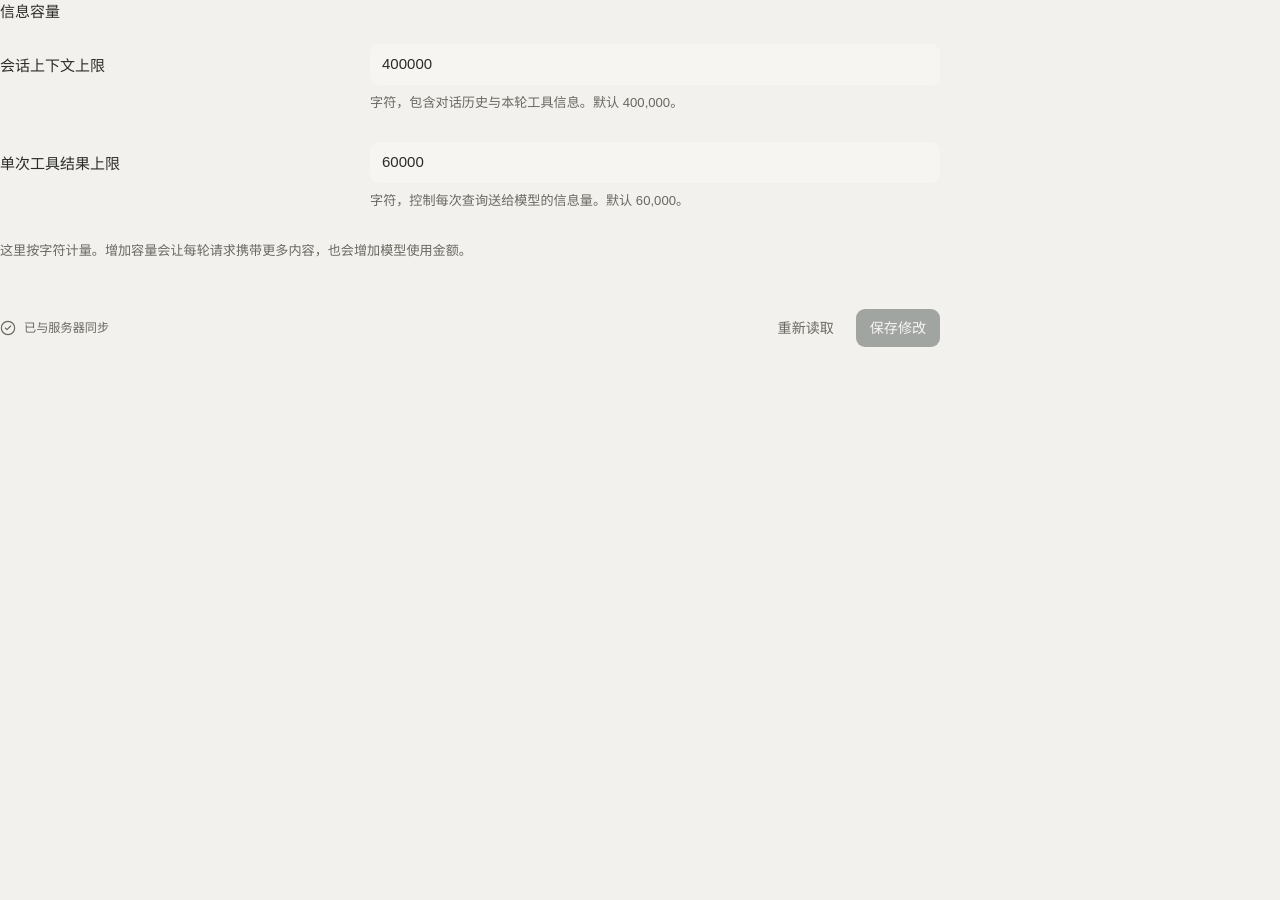
Test: administrator flat runtime configuration › preserves a conflicting context draft, guards category changes and requires explicit reload
The width and height of the screenshot is (1280, 900).
Replace the text in the number field labelled "会话上下文上限" with "80000" at (655, 64), box x1=370 y1=44 x2=940 y2=84
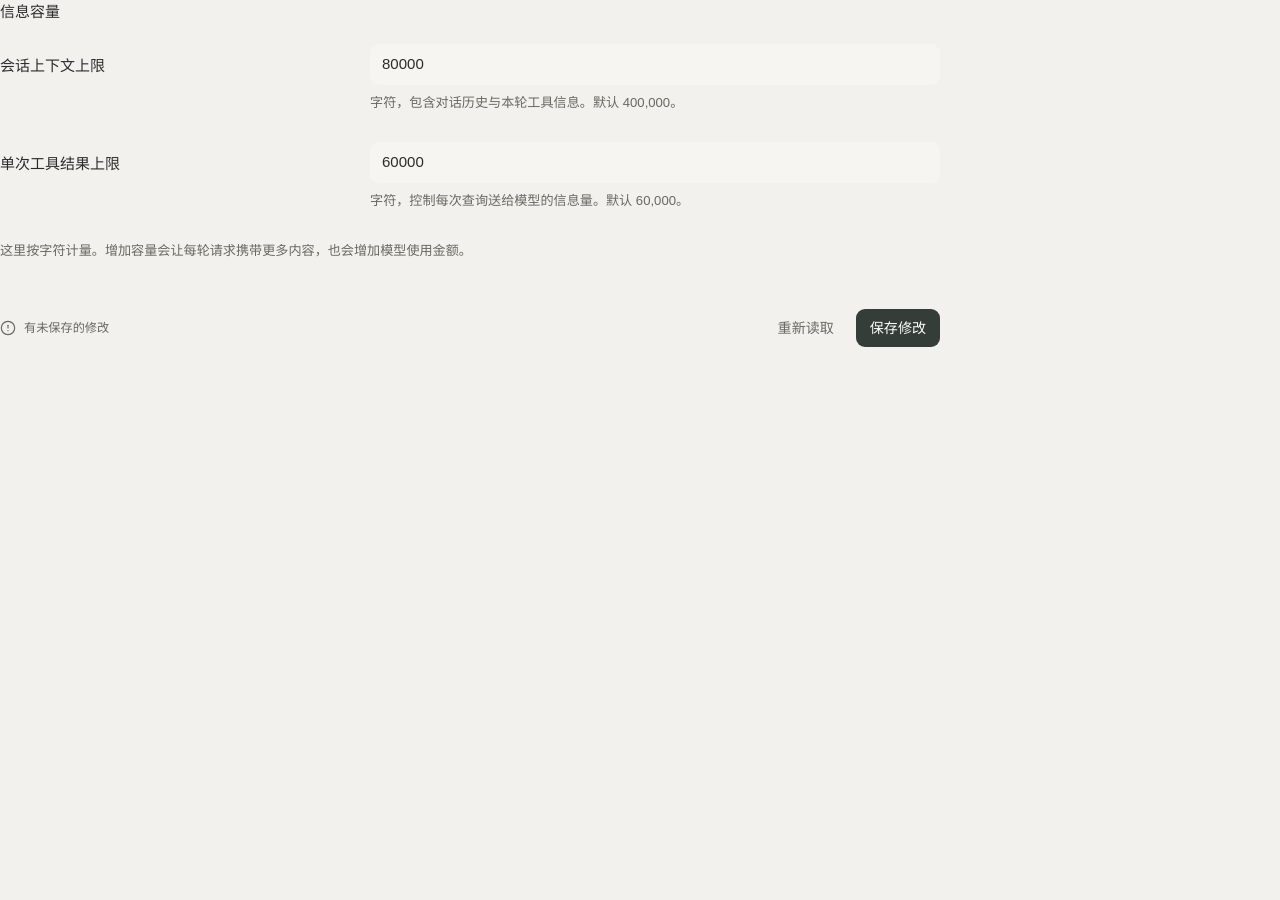
Click the button "保存修改" at (898, 328), box x1=856 y1=309 x2=940 y2=347
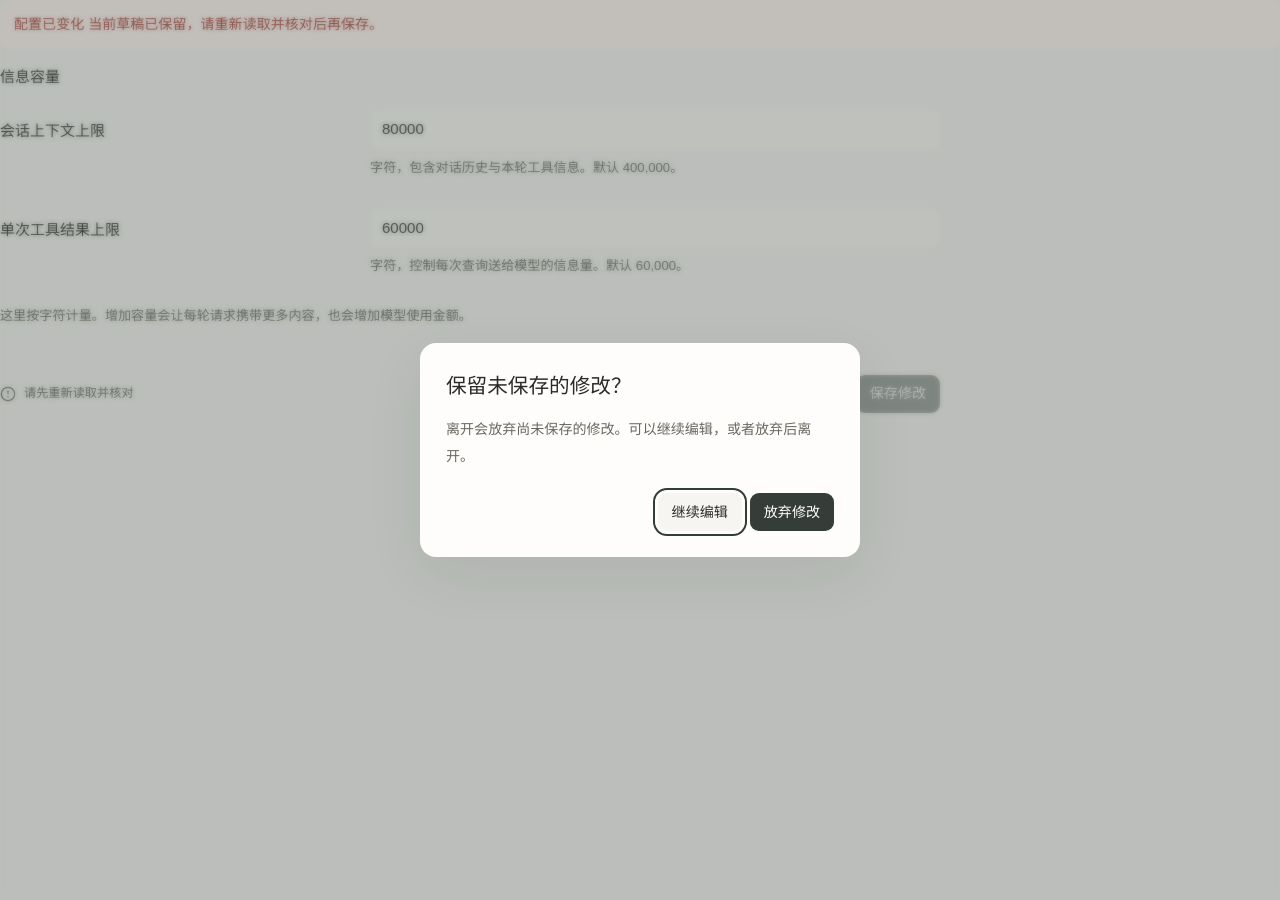
Result: the message shows "当前草稿已保留" at x1=14 y1=16 x2=383 y2=32
Result: the button "保存修改" is disabled at x1=856 y1=374 x2=940 y2=412
Click the button "继续编辑" at (700, 512), box x1=658 y1=493 x2=742 y2=531
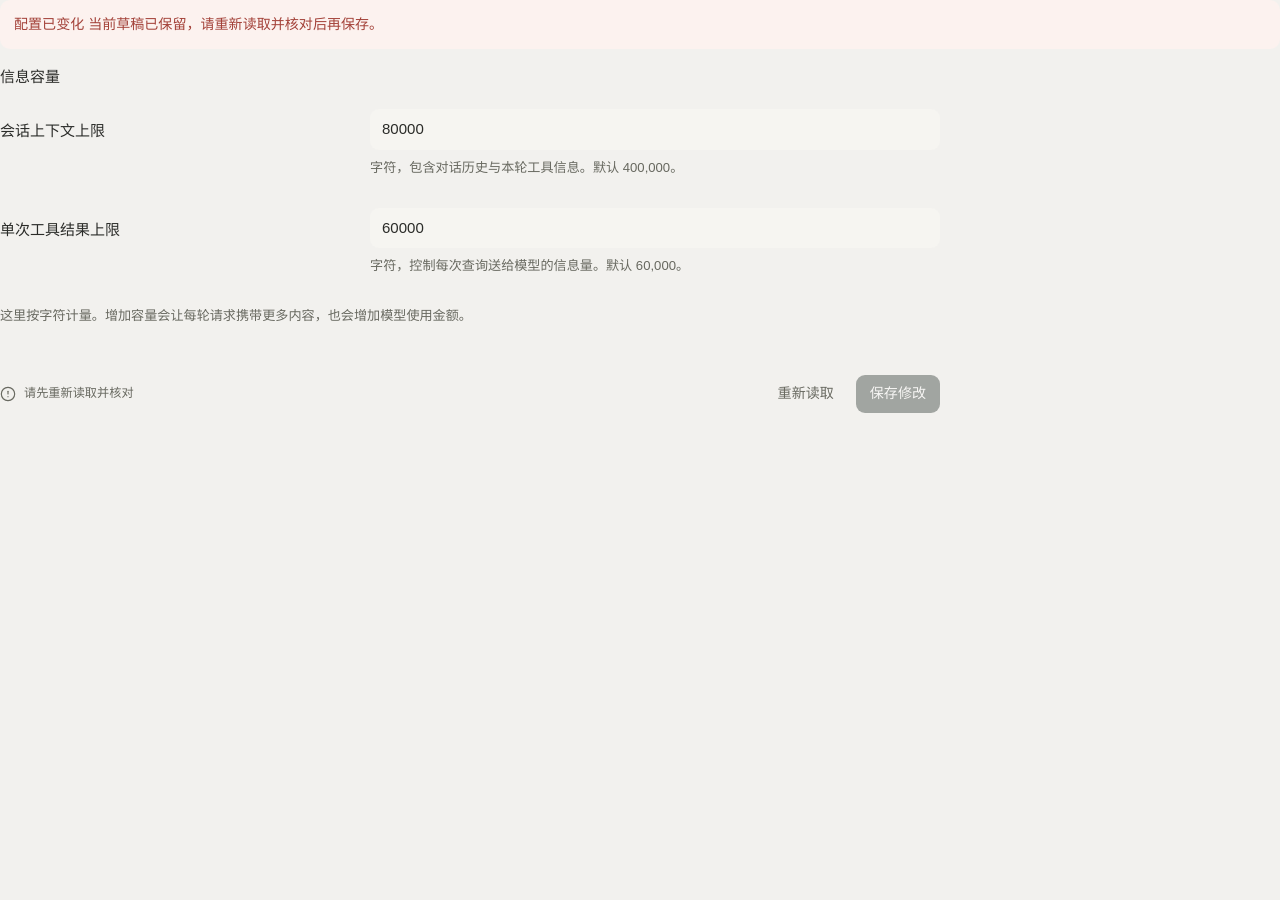
Click the button "重新读取" at (806, 394), box x1=764 y1=374 x2=848 y2=412
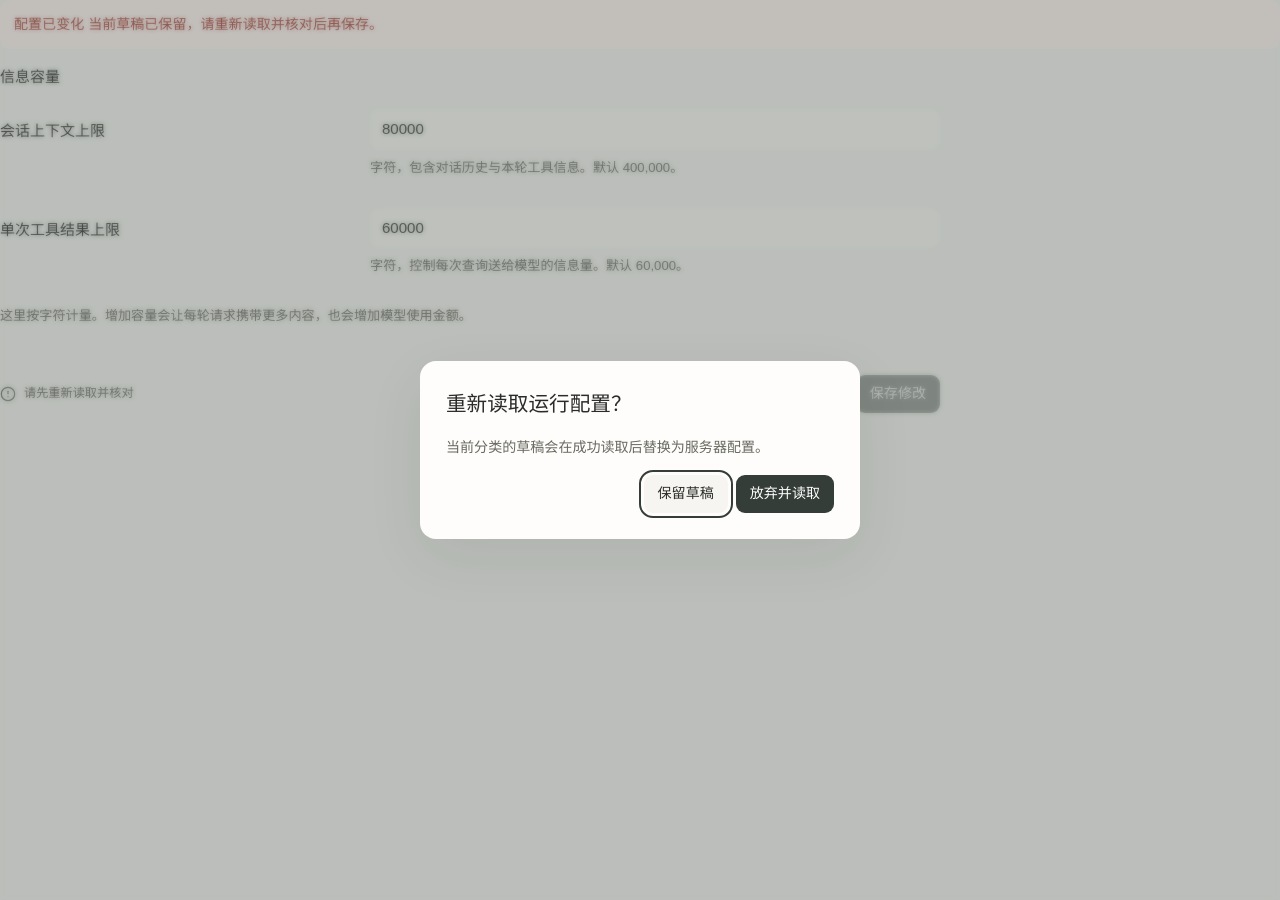
Click the button "放弃并读取" at (785, 494), box x1=736 y1=474 x2=834 y2=512
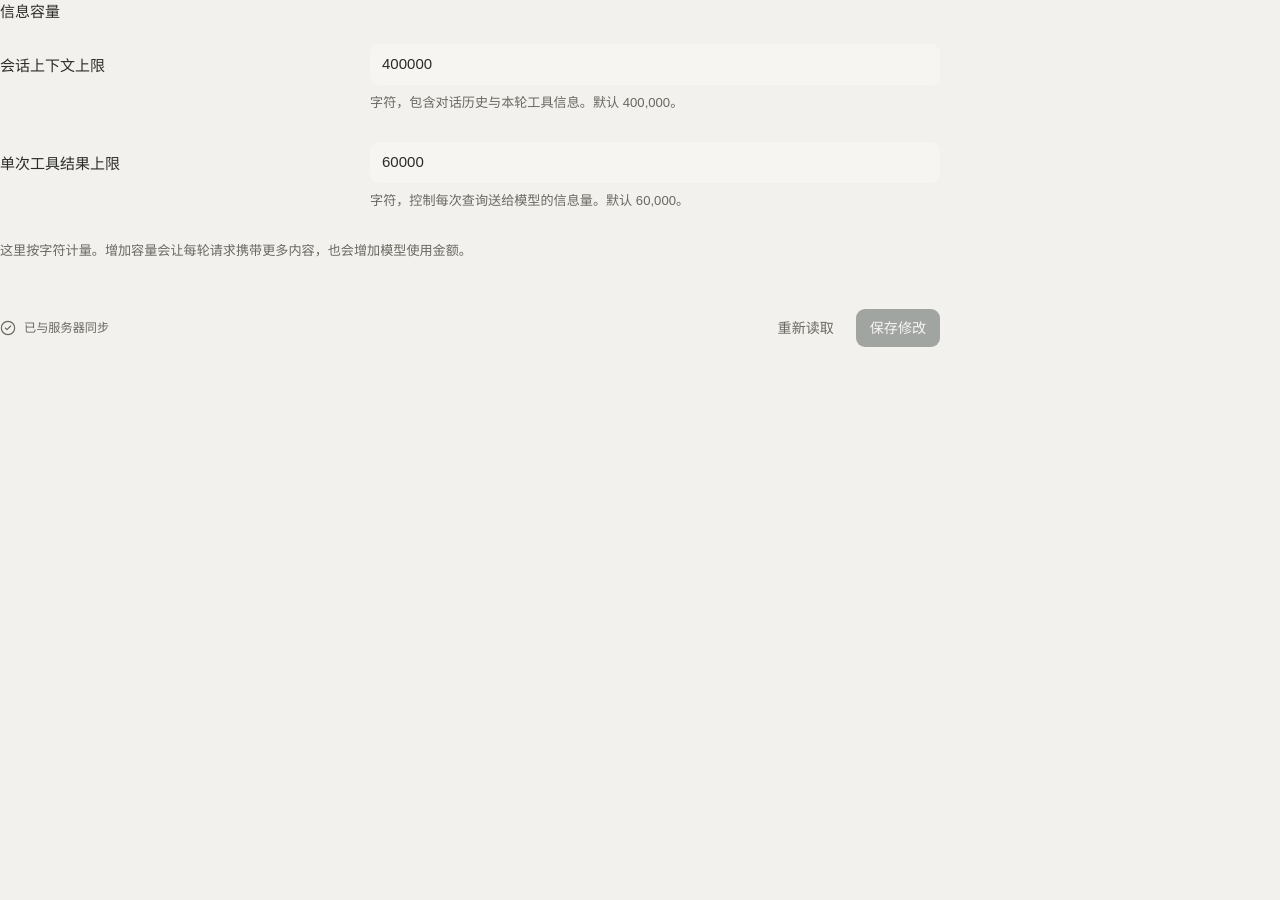
Result: the number field labelled "会话上下文上限" holds "400000" at x1=370 y1=44 x2=940 y2=84
